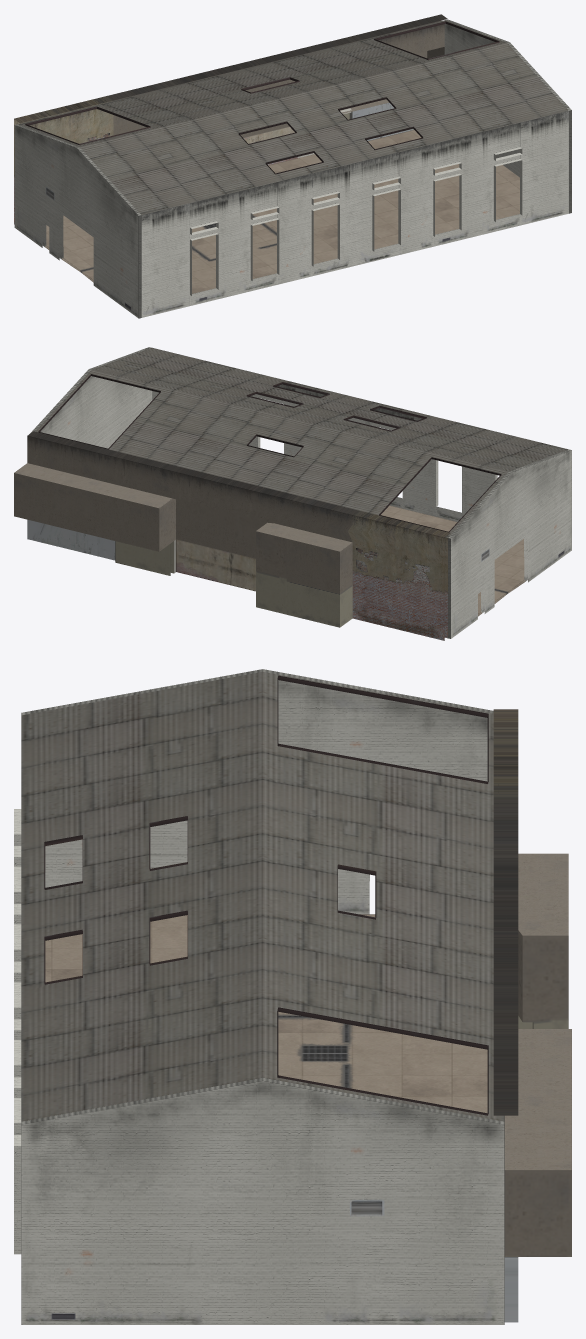
Rendered from SM_set_a.fbx.
3 views of the same model, one above another, from view 1: azimuth 30°, elevation 25°; view 2: azimuth 150°, elevation 25°; view 3: azimuth 270°, elevation 25° (orthographic). The views are drawn at different scales.
Visible parts, largest first — view 1: SM_set_a; view 2: SM_set_a; view 3: SM_set_a.
Boxes of the visible parts, x1,y1,x2,y2 form: SM_set_a: [14, 14, 571, 318]; SM_set_a: [14, 347, 571, 640]; SM_set_a: [14, 669, 571, 1324].
Size of the model in its own units: 4073 by 1126 by 2332.
